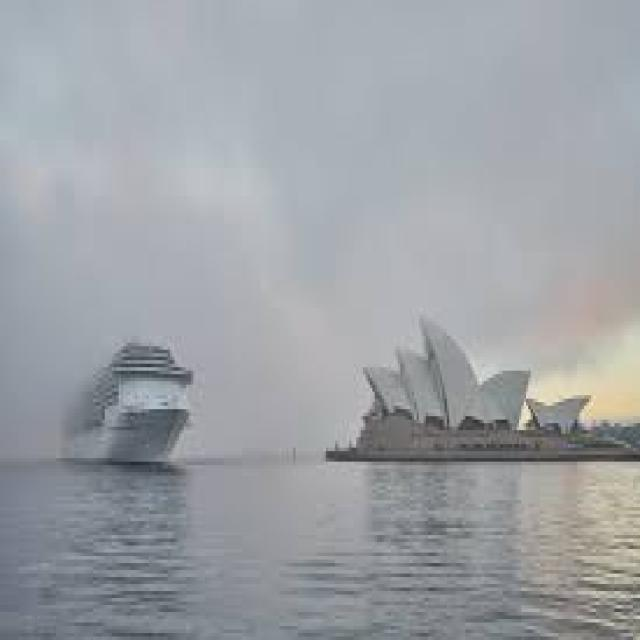passenger ship: (59, 330, 189, 463)
